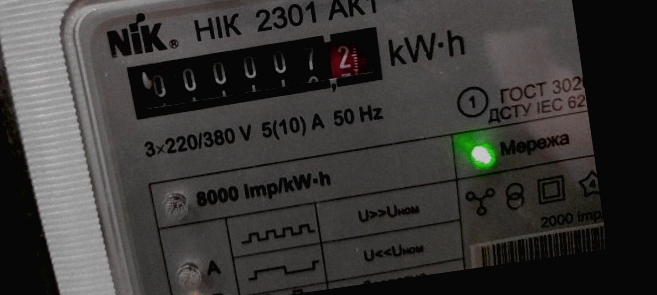0: (208, 58, 230, 87), (148, 70, 169, 100), (178, 64, 199, 94), (269, 46, 289, 76), (239, 52, 258, 80)
2: (334, 41, 354, 72)
7: (299, 43, 319, 74)
screen: (116, 16, 397, 126)
